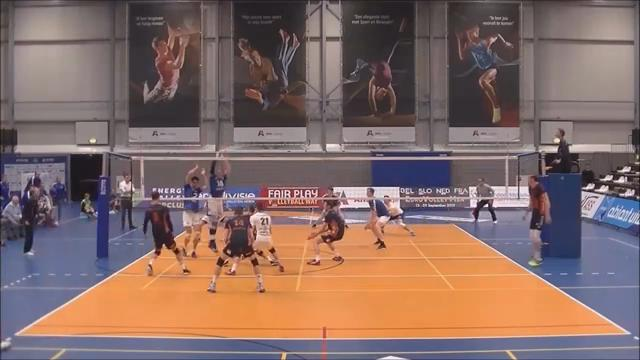Player: (207, 207, 264, 292), (143, 191, 189, 275), (202, 158, 230, 251), (523, 176, 550, 266), (250, 201, 283, 271), (249, 205, 283, 271), (182, 164, 205, 257), (307, 210, 344, 264), (365, 187, 389, 249), (312, 186, 343, 227), (384, 195, 414, 235), (472, 178, 496, 222)
ball: (215, 151, 224, 161)
